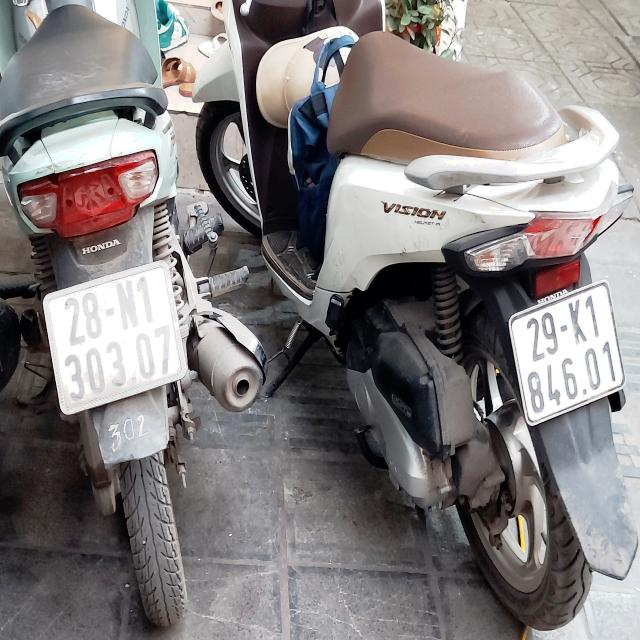license_plate: (42, 263, 186, 415), (510, 278, 627, 425)
